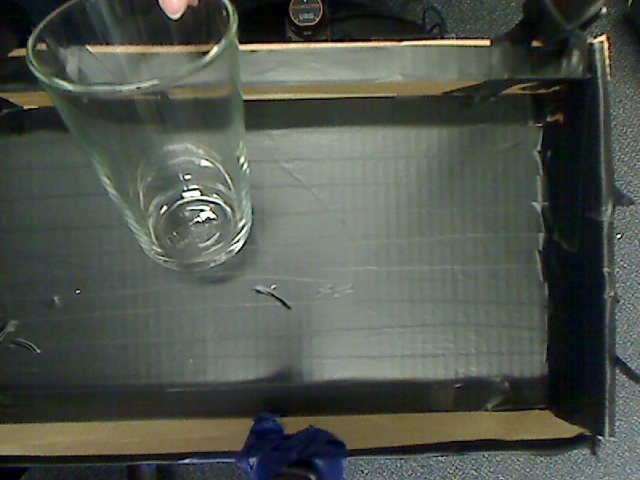cup: (17, 1, 281, 274)
